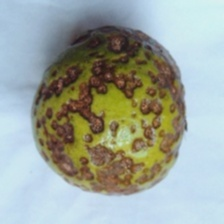guava: (27, 32, 170, 192)
